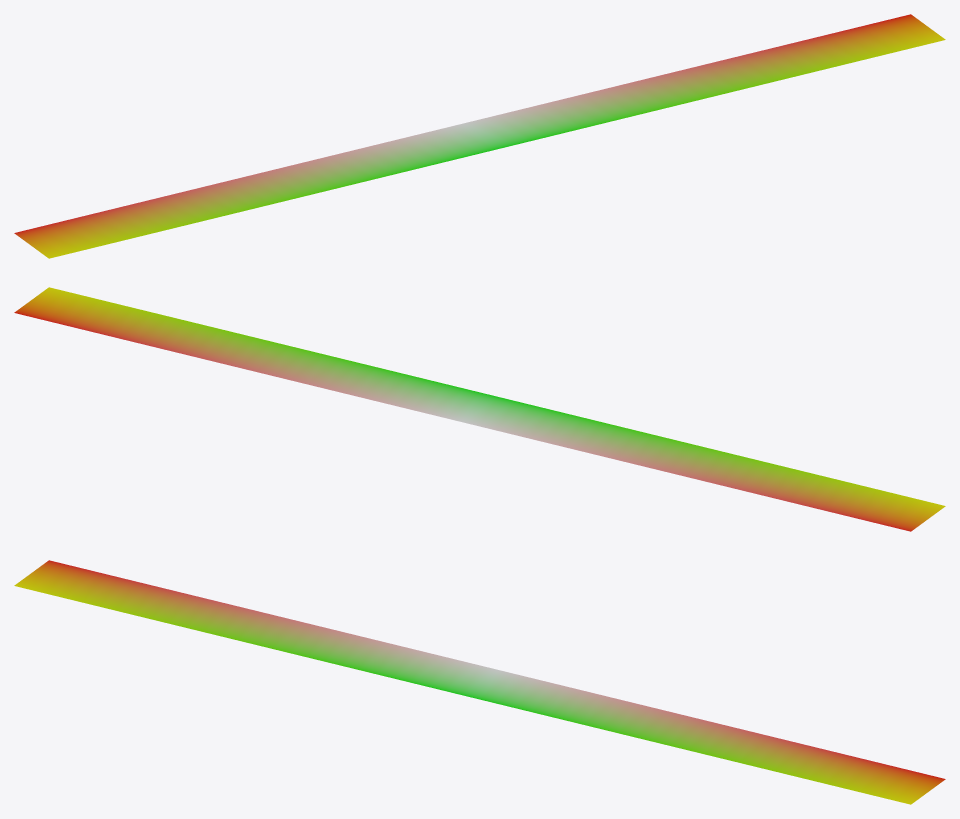
File: Aurora Sections.fbx
The picture shows the model from 3 angles, top to bottom: view 1: azimuth 30°, elevation 25°; view 2: azimuth 150°, elevation 25°; view 3: azimuth 330°, elevation 25°; orthographic projection.
Parts seen in each view (by area): view 1: Aurora Beam 1; view 2: Aurora Beam 1; view 3: Aurora Beam 1.
Boxes of the visible parts, <box> form: Aurora Beam 1: <box>14,14,945,258</box>; Aurora Beam 1: <box>14,287,945,531</box>; Aurora Beam 1: <box>14,560,945,804</box>.
Size of the model in its own units: 10064 by 0.000111 by 680.
